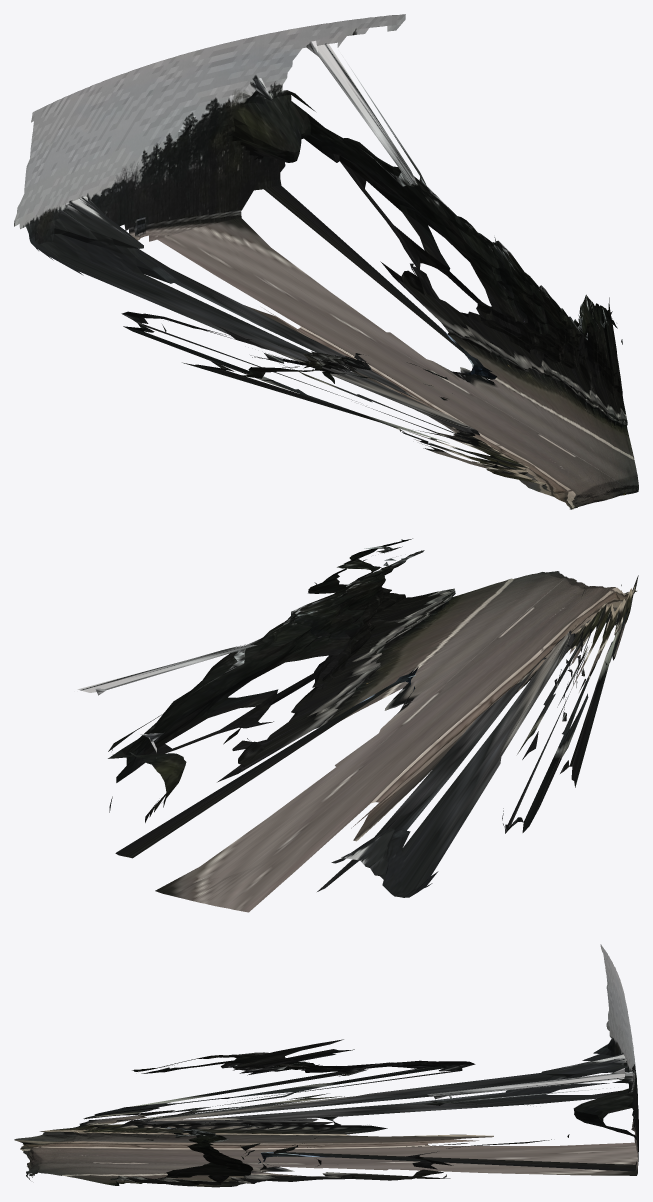
The picture shows the model from 3 angles, top to bottom: view 1: azimuth 30°, elevation 25°; view 2: azimuth 150°, elevation 25°; view 3: azimuth 270°, elevation 25°; orthographic projection. The views are drawn at different scales.
Parts seen in each view (by area): view 1: defaultobject; view 2: defaultobject; view 3: defaultobject.
Part boxes in pixels (x1,y1,x2,y2): defaultobject: [14, 14, 638, 509]; defaultobject: [77, 538, 638, 912]; defaultobject: [14, 944, 638, 1187].
Size of the model in its own units: 26.09 by 11.92 by 45.13.
1 material, 1 textured.
